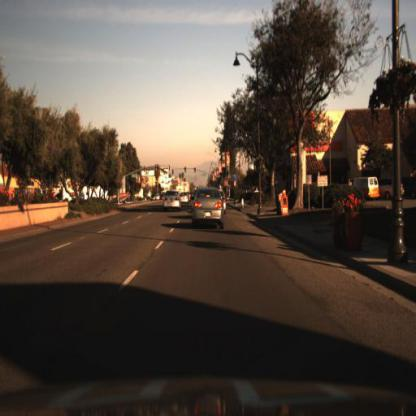car: (191, 184, 227, 233), (351, 171, 383, 204), (376, 174, 404, 205), (162, 187, 183, 211), (181, 188, 191, 209)
